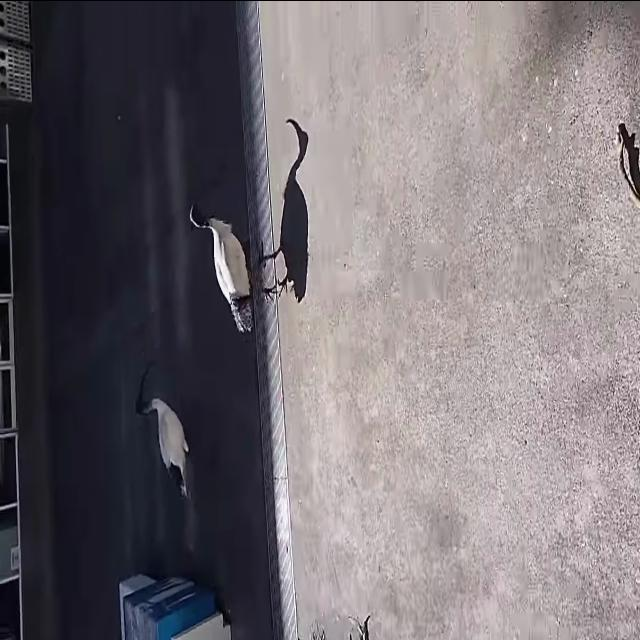Birds-Ibis: (183, 172, 279, 340), (130, 354, 211, 506)
